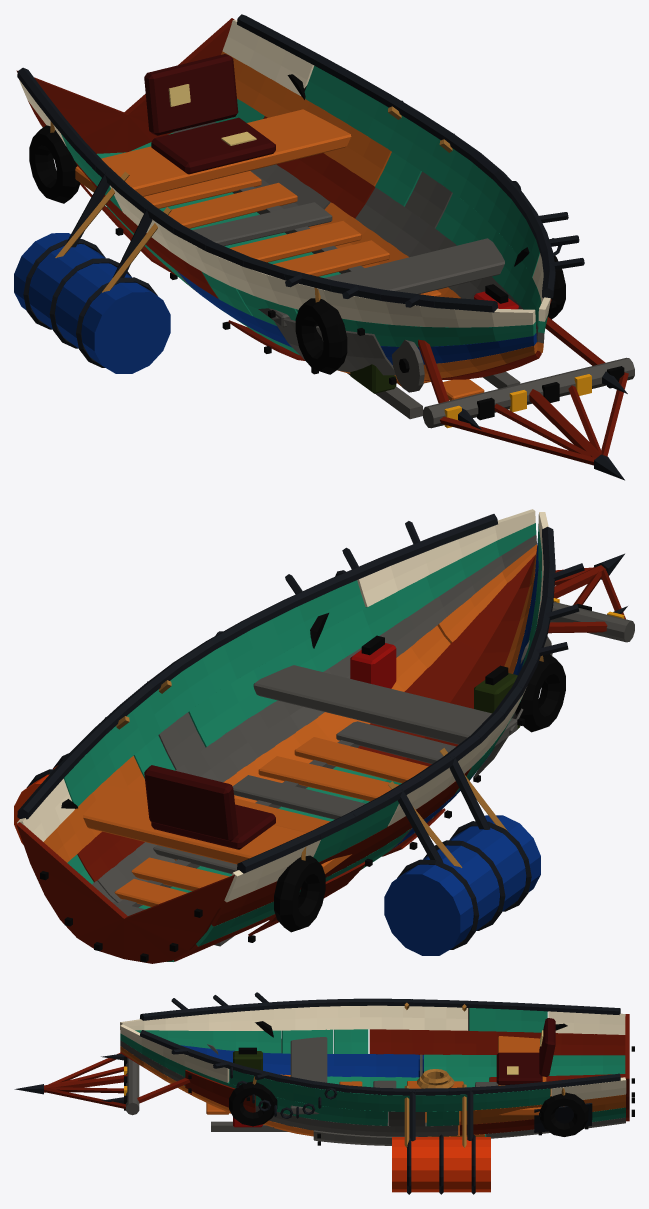
Rendered from tb_patchwork_skiff.three-web-toon.glb.
The picture shows the model from 3 angles, top to bottom: view 1: azimuth 30°, elevation 25°; view 2: azimuth 150°, elevation 25°; view 3: azimuth 270°, elevation 25°; orthographic projection. The views are drawn at different scales.
Visible parts, largest first — view 1: tb_patchwork_skiff_mesh; view 2: tb_patchwork_skiff_mesh; view 3: tb_patchwork_skiff_mesh.
Part boxes in pixels (<box>): tb_patchwork_skiff_mesh: <box>14,14,634,480</box>; tb_patchwork_skiff_mesh: <box>14,509,634,963</box>; tb_patchwork_skiff_mesh: <box>14,992,634,1194</box>.
Size of the model in its own units: 2.81 by 1.1 by 5.39.
